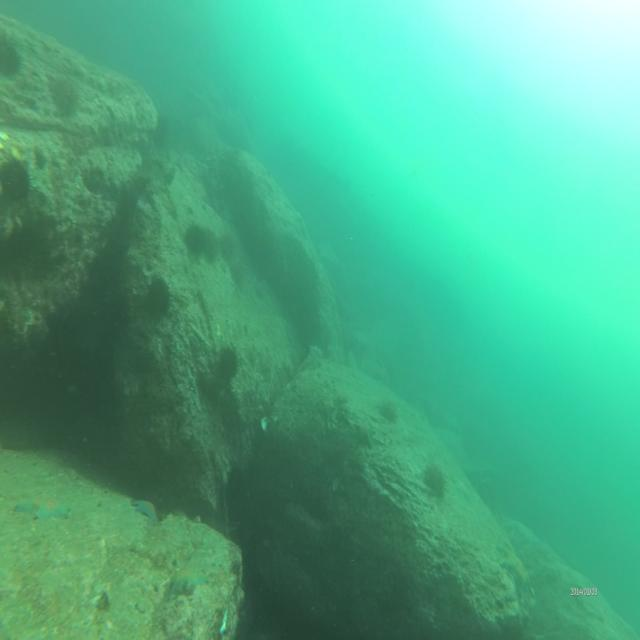echinus: (0, 157, 35, 203), (144, 272, 174, 319), (52, 75, 82, 118), (422, 462, 448, 500), (0, 40, 24, 78), (218, 345, 239, 385), (378, 396, 399, 428), (202, 225, 220, 261), (185, 220, 202, 258), (218, 229, 234, 258)
starfish: (167, 562, 206, 602), (16, 496, 68, 526), (130, 492, 158, 528)
